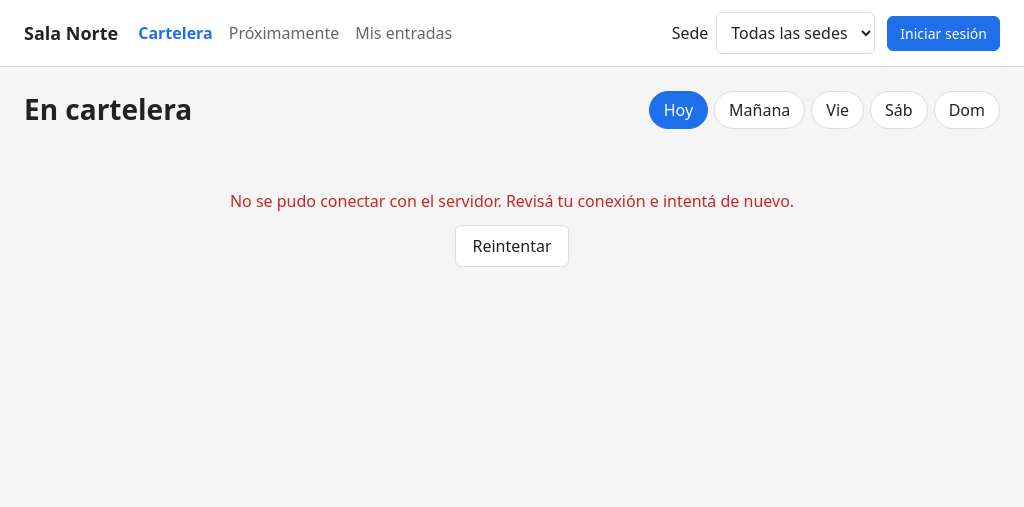
Cartelera › muestra un error si no hay conexión y permite reintentar
Check: the message shows "No se pudo conectar con el servidor", box x1=230 y1=190 x2=794 y2=212
Click the button "Reintentar".
click(512, 246)  # box x1=456 y1=225 x2=568 y2=267
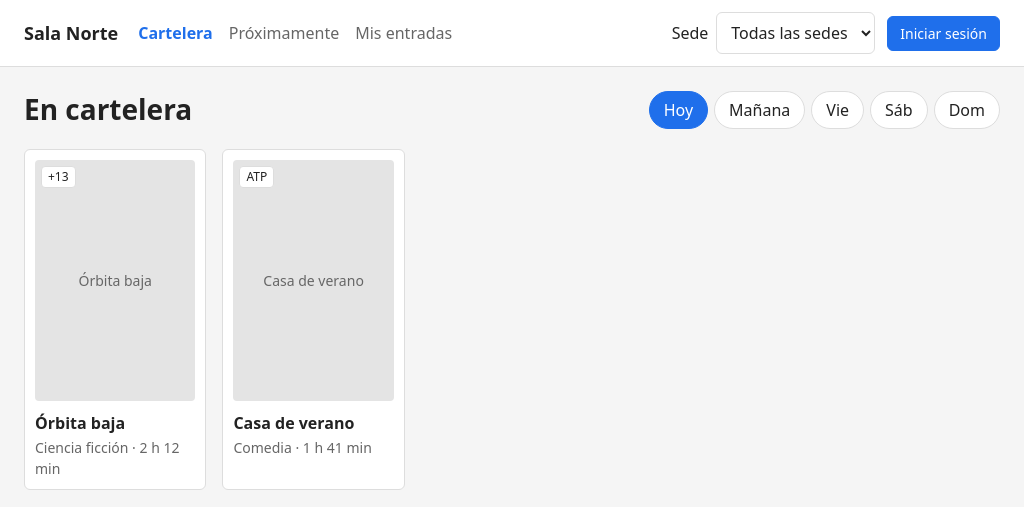
Check: the 2nd text "Órbita baja" is shown, box x1=35 y1=412 x2=125 y2=434
Check: the message is gone
